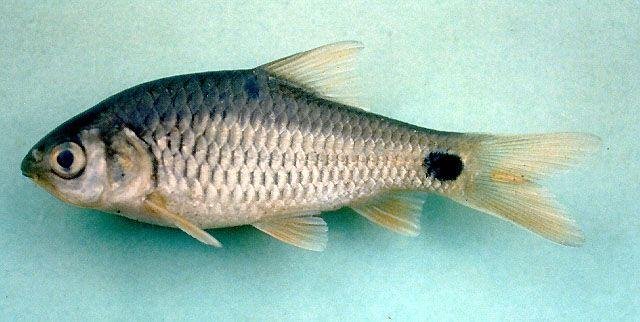Black Spotted Barb: (23, 37, 603, 249)
